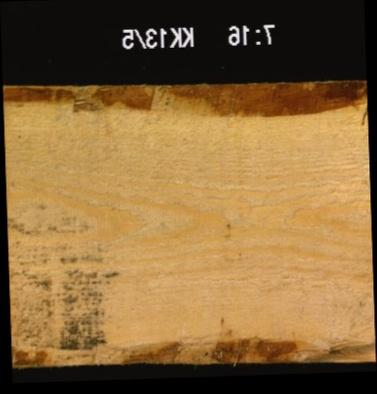wave: (2, 78, 366, 119), (10, 334, 374, 363)
